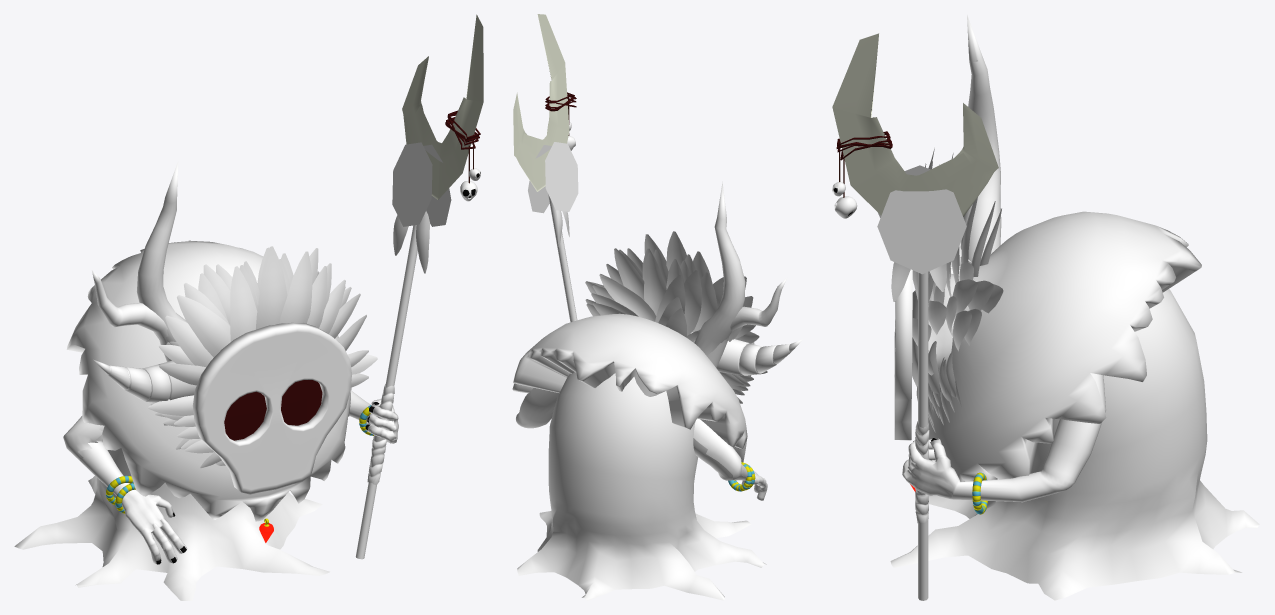
Rendered from shamanchik.gltf.
The picture shows the model from 3 angles, left to right: view 1: azimuth 30°, elevation 25°; view 2: azimuth 150°, elevation 25°; view 3: azimuth 270°, elevation 25°; orthographic projection. The views are drawn at different scales.
Visible parts, largest first — view 1: fur, mask, stump, Plane.001, horn-upper, hand, Plane, Circle.006, horn_lower, Cylinder, f, f.003 (+12 smaller); view 2: stump, fur, horn-upper, Plane.001, hand, horn_lower, Circle.006, hand.001, f.044, f.020, f.029, Cylinder (+5 smaller); view 3: stump, fur, Plane.001, hand.001, Circle.004, horn-upper, mask, Cylinder, Sphere, Cylinder.001, Plane.009, f.046.
Boxes of the visible parts, bbox=[...] form: fur: bbox=[66, 240, 350, 521]; mask: bbox=[192, 322, 351, 494]; stump: bbox=[14, 448, 329, 600]; Plane.001: bbox=[402, 14, 483, 199]; horn-upper: bbox=[92, 161, 187, 361]; hand: bbox=[63, 416, 187, 564]; Plane: bbox=[224, 380, 322, 440]; Circle.006: bbox=[392, 142, 432, 226]; horn_lower: bbox=[93, 359, 196, 402]; Cylinder: bbox=[355, 225, 417, 559]; f: bbox=[256, 246, 287, 329]; f.003: bbox=[177, 295, 230, 357]; stump: bbox=[517, 372, 766, 600]; fur: bbox=[512, 313, 747, 462]; horn-upper: bbox=[694, 181, 787, 368]; Plane.001: bbox=[513, 14, 569, 191]; hand: bbox=[693, 419, 767, 500]; horn_lower: bbox=[717, 339, 802, 375]; Circle.006: bbox=[545, 142, 578, 211]; hand.001: bbox=[516, 388, 558, 428]; f.044: bbox=[600, 277, 656, 321]; f.020: bbox=[644, 252, 666, 315]; f.029: bbox=[684, 270, 701, 335]; Cylinder: bbox=[548, 194, 577, 322]; stump: bbox=[890, 289, 1259, 600]; fur: bbox=[928, 211, 1201, 481]; Plane.001: bbox=[832, 33, 998, 216]; hand.001: bbox=[902, 373, 1105, 502]; Circle.004: bbox=[877, 189, 966, 274]; horn-upper: bbox=[960, 15, 1001, 263]; mask: bbox=[894, 269, 912, 440]; Cylinder: bbox=[918, 272, 928, 600]; Sphere: bbox=[912, 273, 959, 386]; Cylinder.001: bbox=[915, 421, 929, 523]; Plane.009: bbox=[836, 131, 892, 160]; f.046: bbox=[952, 279, 977, 317].
Size of the model in its own units: 1.72 by 2.52 by 1.57.
